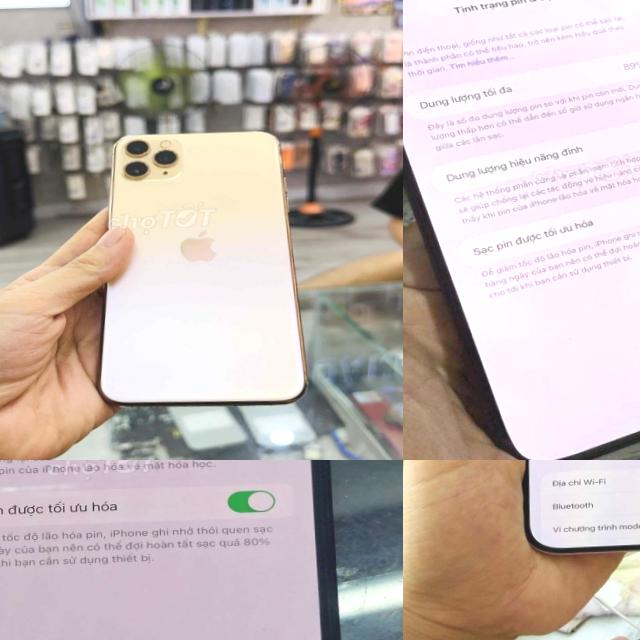gen_11: (84, 117, 314, 416)
gen_12_13: (0, 460, 367, 640)
gen_14: (403, 0, 640, 460)
gen_15: (487, 460, 640, 569)
